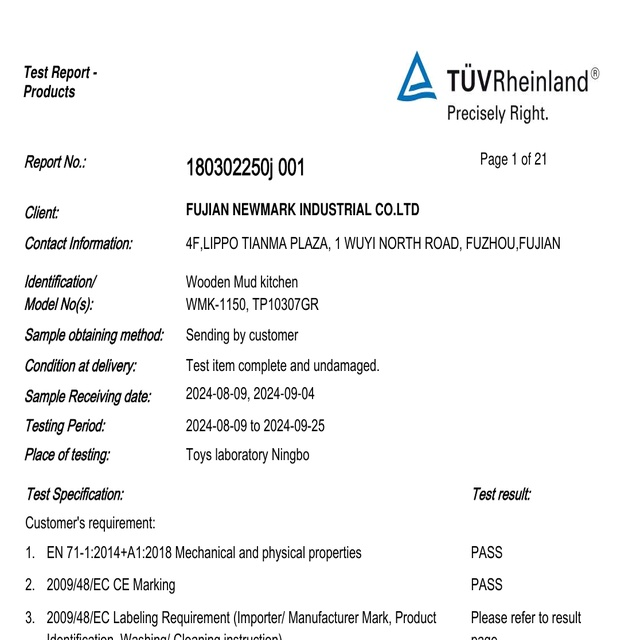tuv_rheinland: (395, 49, 601, 106)
